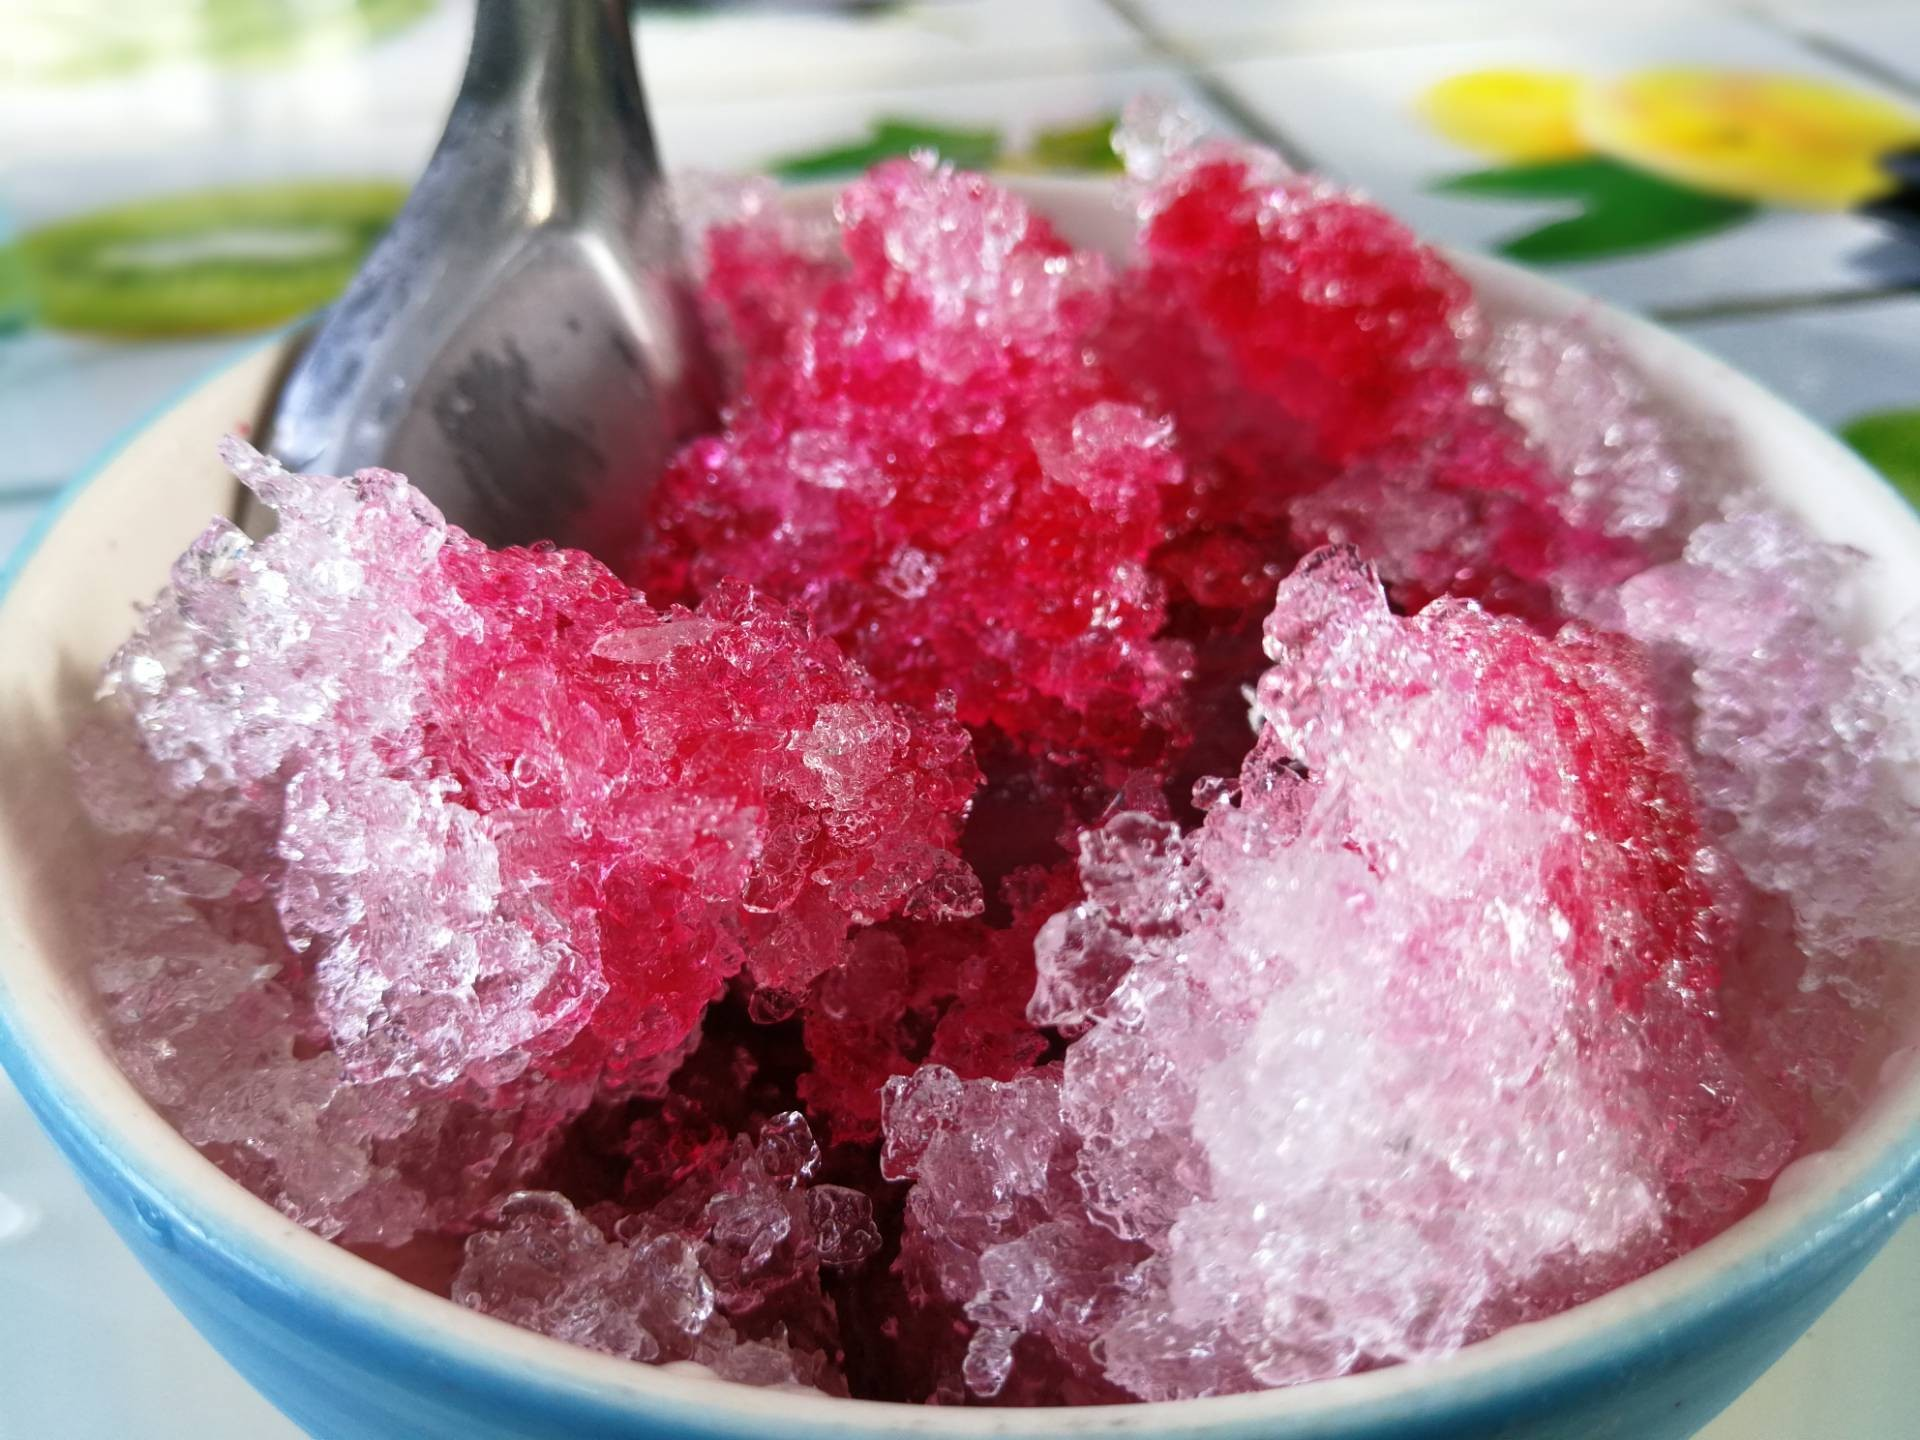O-eo: (2, 147, 1920, 1438)
